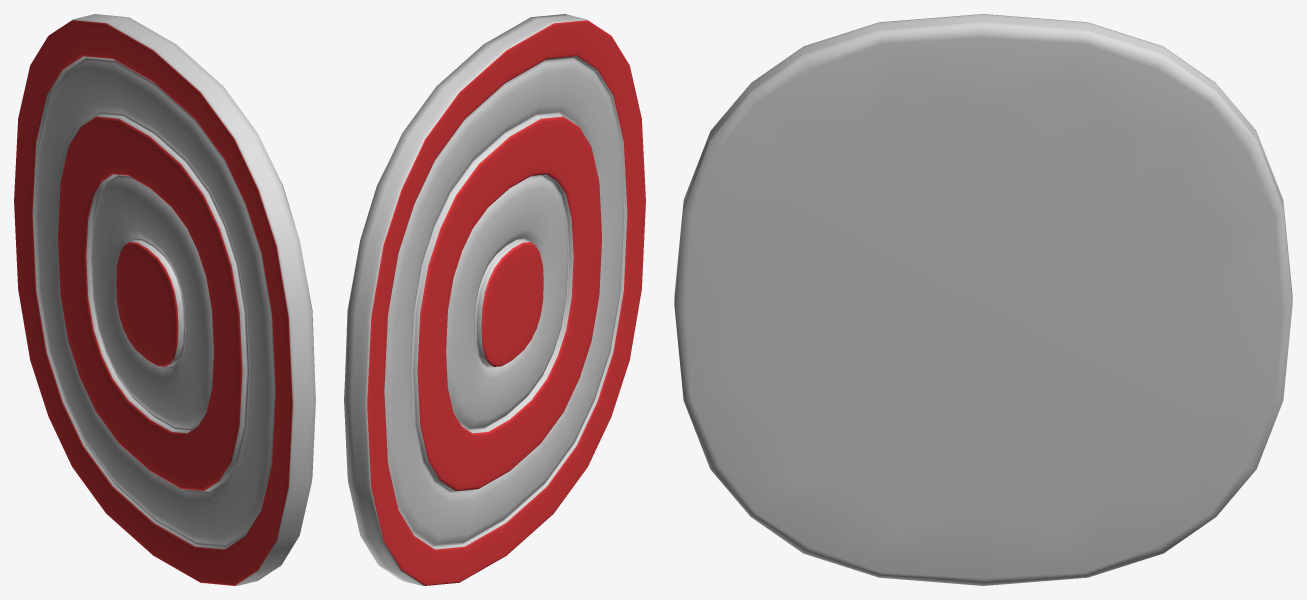
The model's file is diana.fbx.
3 views of the same model, side by side, from view 1: azimuth 30°, elevation 25°; view 2: azimuth 150°, elevation 25°; view 3: azimuth 270°, elevation 25° (orthographic). The views are drawn at different scales.
Parts seen in each view (by area): view 1: Cylinder.001; view 2: Cylinder.001; view 3: Cylinder.001.
Boxes of the visible parts, box(x1,y1,x2,y2) form: Cylinder.001: box(14, 14, 315, 585); Cylinder.001: box(344, 14, 645, 585); Cylinder.001: box(674, 14, 1292, 585).
Size of the model in its own units: 80.46 by 1036 by 1036.
